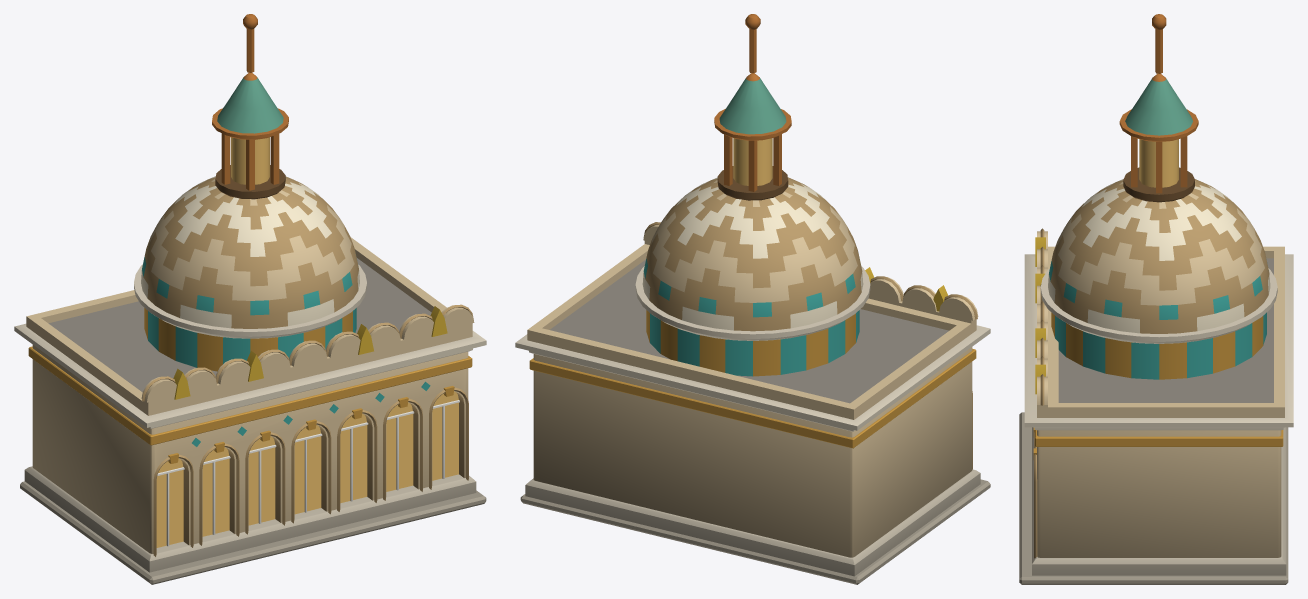
The model's file is bh_quapaw.glb.
3 views of the same model, side by side, from view 1: azimuth 30°, elevation 25°; view 2: azimuth 150°, elevation 25°; view 3: azimuth 270°, elevation 25° (orthographic).
Parts seen in each view (by area): view 1: bh_quapaw; view 2: bh_quapaw; view 3: bh_quapaw.
Boxes of the visible parts, bbox=[...] form: bh_quapaw: bbox=[14, 14, 486, 584]; bh_quapaw: bbox=[515, 14, 990, 584]; bh_quapaw: bbox=[1019, 14, 1293, 584].
Bounding box in the file's own units: 0.0222 × 0.03 × 0.0153.
